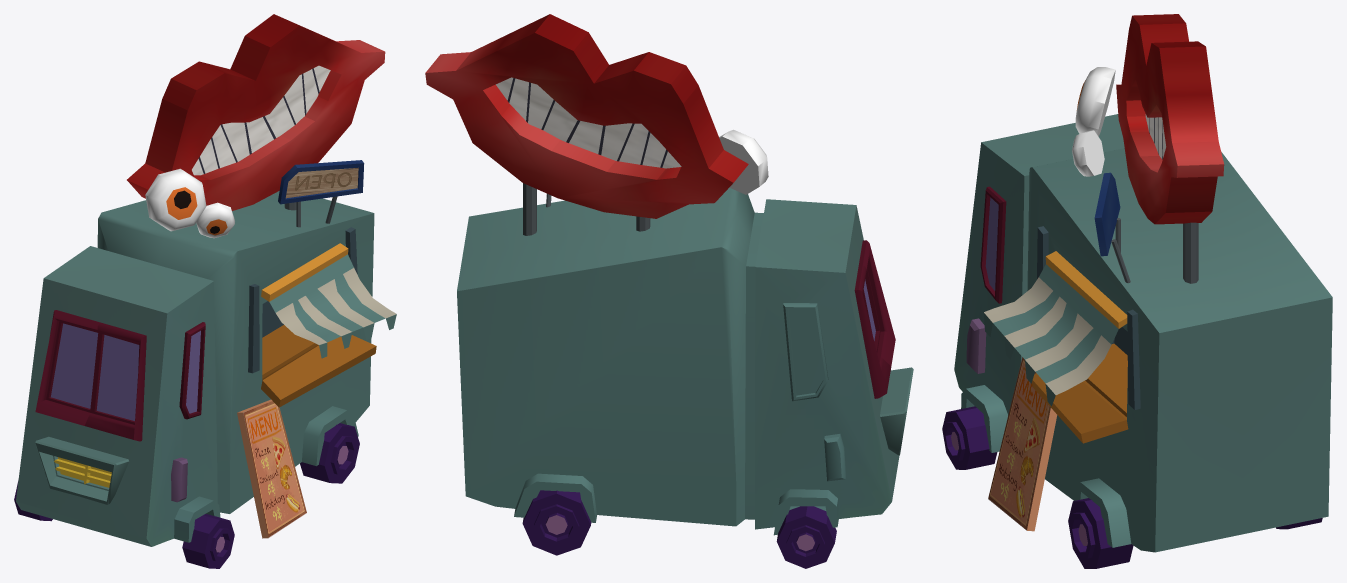
Rendered from Car.fbx.
3 views of the same model, side by side, from view 1: azimuth 30°, elevation 25°; view 2: azimuth 150°, elevation 25°; view 3: azimuth 270°, elevation 25° (orthographic). The views are drawn at different scales.
Parts seen in each view (by area): view 1: 圆环.001; view 2: 圆环.001; view 3: 圆环.001.
Boxes of the visible parts, x1,y1,x2,y2 form: 圆环.001: [14, 14, 396, 568]; 圆环.001: [425, 14, 913, 568]; 圆环.001: [942, 14, 1332, 568].
Size of the model in its own units: 403 by 430 by 295.
